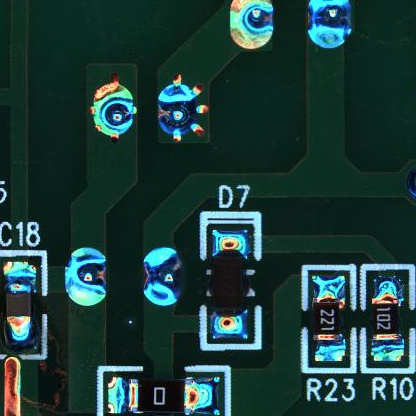spot: (158, 71, 209, 144), (91, 73, 137, 142), (65, 246, 106, 310), (143, 245, 182, 307), (305, 1, 354, 50), (228, 1, 275, 50)
